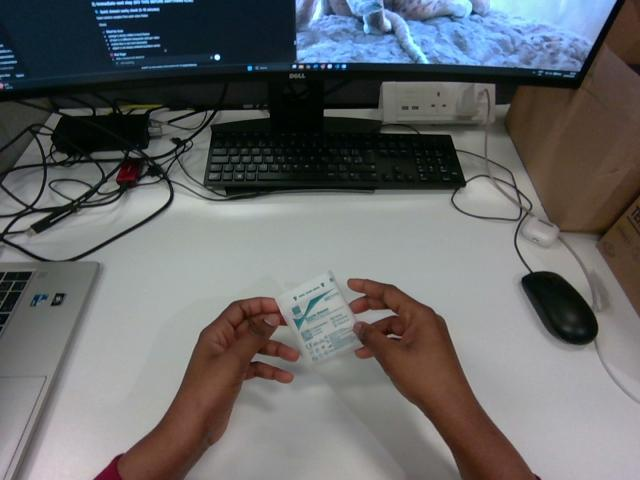gauze: (276, 272, 361, 363)
